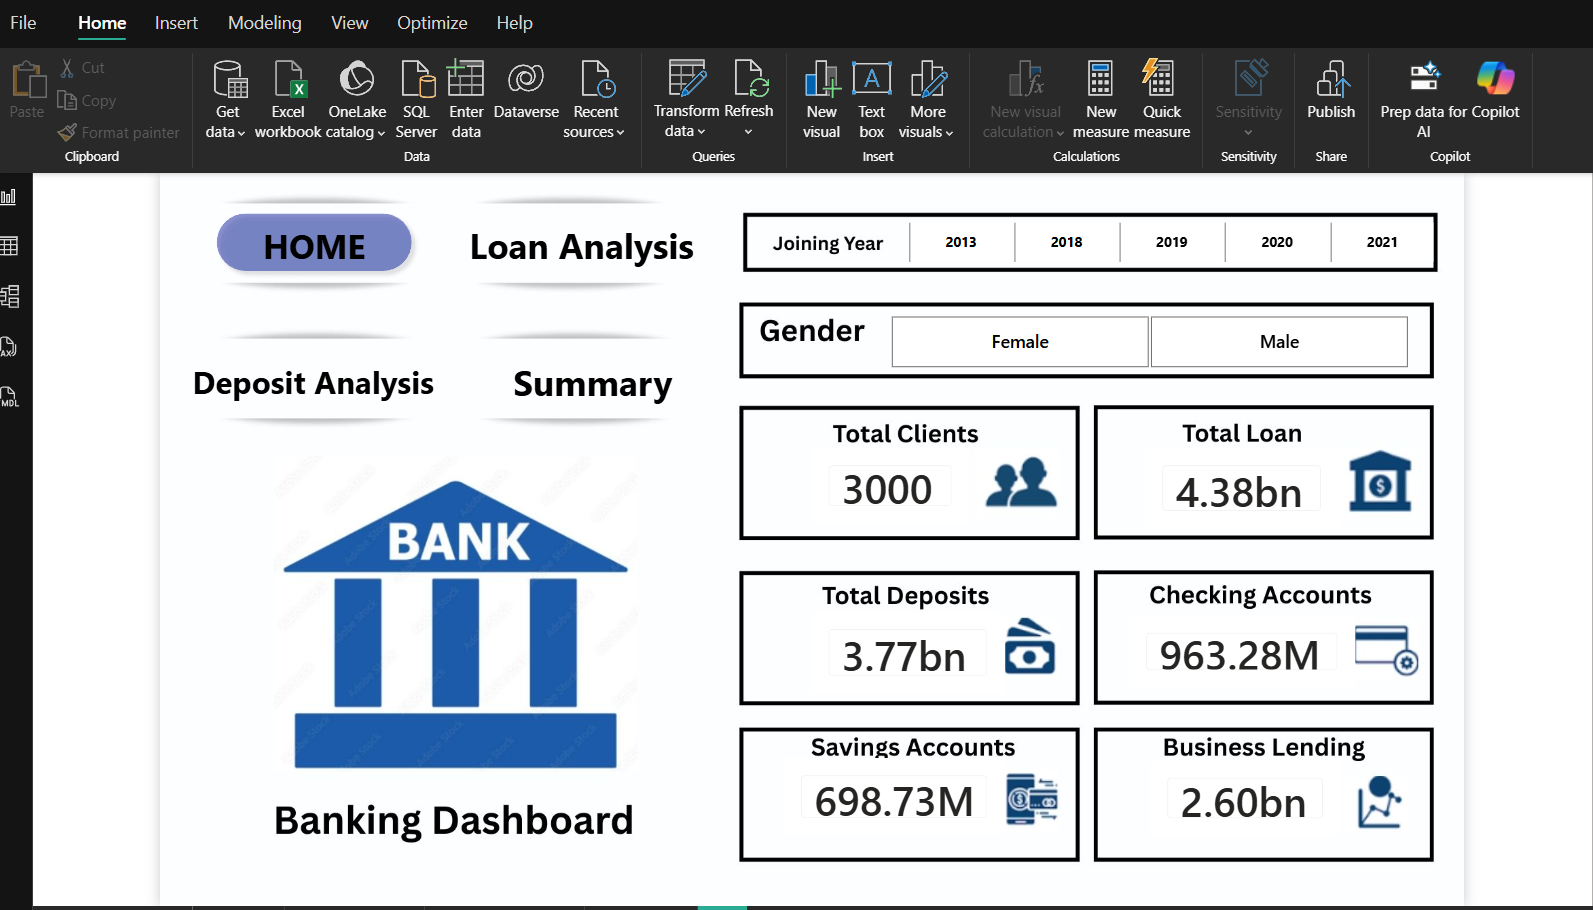

This screenshot's page, from the dashboard's own definition file:
{"tool":"powerbi","page":{"name":"Home","canvas":[1280,720],"ordinal":0},"visuals":[{"type":"cardVisual","fields":{"Data":["Banking.Total loan"]},"box":[966.7,269.8,190.5,79.4],"z":0},{"type":"slicer","fields":{"Values":["Banking.GenderId"]},"box":[692.1,133.3,557.1,63.5],"z":1000},{"type":"slicer","fields":{"Values":["Banking.Year of Joining"]},"box":[709.5,41.3,565.1,52.4],"z":2000},{"type":"cardVisual","fields":{"Data":["Banking.total deposit"]},"box":[639.7,430.2,190.5,81],"z":3000},{"type":"cardVisual","fields":{"Data":["Sum(Banking.Checking Accounts)"]},"box":[950.8,434.9,222.2,71.4],"z":4000},{"type":"cardVisual","fields":{"Data":["Sum(Banking.Saving Accounts)"]},"box":[612.7,574.6,217.5,76.2],"z":5000},{"type":"cardVisual","fields":{"Data":["Sum(Banking.Business Lending)"]},"box":[971.4,576.2,187.3,74.6],"z":6000},{"type":"cardVisual","fields":{"Data":["Banking.Count_of_names"]},"box":[639.7,269.8,155.6,74.6],"z":7000},{"type":"bookmarkNavigator","box":[1.6,600,600,50.8],"z":8000},{"type":"actionButton","box":[46,30.2,209.5,74.6],"z":9000},{"type":"actionButton","box":[255.6,31.7,317.5,73],"z":10000},{"type":"actionButton","box":[12.7,165.1,276.2,73],"z":11000},{"type":"actionButton","box":[301.6,165.1,246,73],"z":12000}]}

Visuals, with their boxes on the page's 1280x720 design canvas (x1, y1, x2, y2). These are canvas units, not pixel positions in the 1593x910 screenshot, which may show the page scaled, cropped or inside an application window:
cardVisual - Banking.Total loan: [left=967, top=270, right=1157, bottom=349]
slicer - Banking.GenderId: [left=692, top=133, right=1249, bottom=197]
slicer - Banking.Year of Joining: [left=710, top=41, right=1275, bottom=94]
cardVisual - Banking.total deposit: [left=640, top=430, right=830, bottom=511]
cardVisual - Sum(Banking.Checking Accounts): [left=951, top=435, right=1173, bottom=506]
cardVisual - Sum(Banking.Saving Accounts): [left=613, top=575, right=830, bottom=651]
cardVisual - Sum(Banking.Business Lending): [left=971, top=576, right=1159, bottom=651]
cardVisual - Banking.Count_of_names: [left=640, top=270, right=795, bottom=344]
bookmarkNavigator: [left=2, top=600, right=602, bottom=651]
actionButton: [left=46, top=30, right=256, bottom=105]
actionButton: [left=256, top=32, right=573, bottom=105]
actionButton: [left=13, top=165, right=289, bottom=238]
actionButton: [left=302, top=165, right=548, bottom=238]
